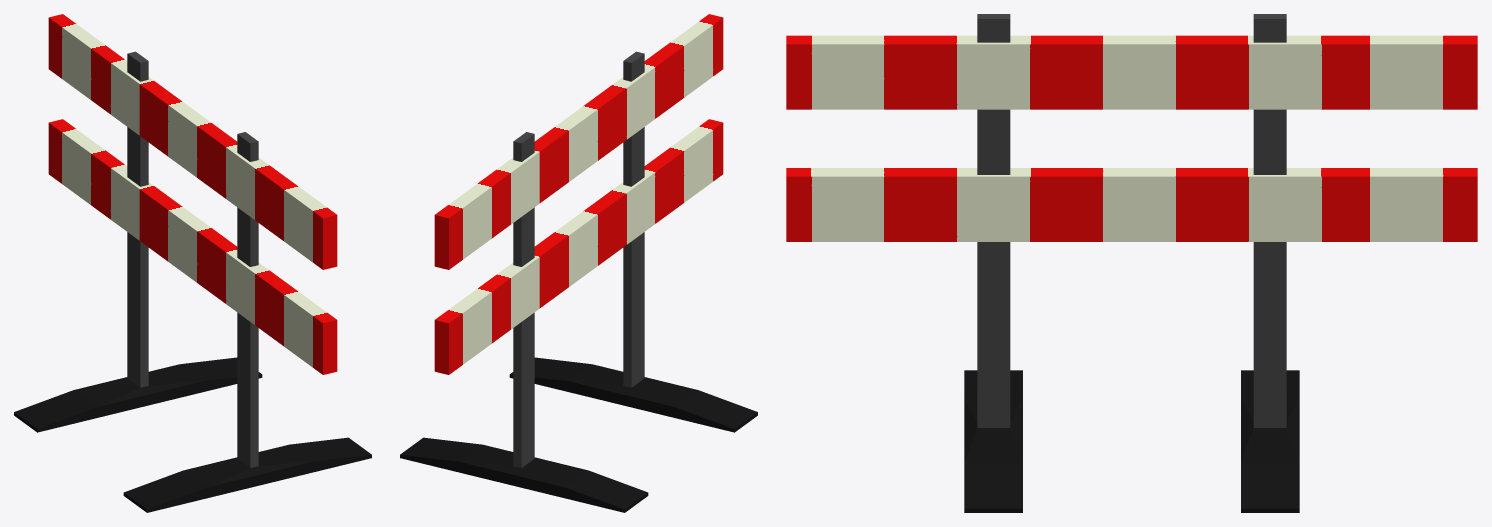
File: road_barrier.glb
3 renders of one model, left to right at view 1: azimuth 30°, elevation 25°; view 2: azimuth 150°, elevation 25°; view 3: azimuth 270°, elevation 25°, orthographic. The views are drawn at different scales.
Parts seen in each view (by area): view 1: road_barrier; view 2: road_barrier; view 3: road_barrier.
Boxes of the visible parts, x1,y1,x2,y2 form: road_barrier: (14, 14, 371, 512); road_barrier: (400, 14, 757, 512); road_barrier: (786, 14, 1477, 512).
Size of the model in its own units: 3.41 by 4.91 by 7.2.
Materials: 1 (1 with a texture image).
